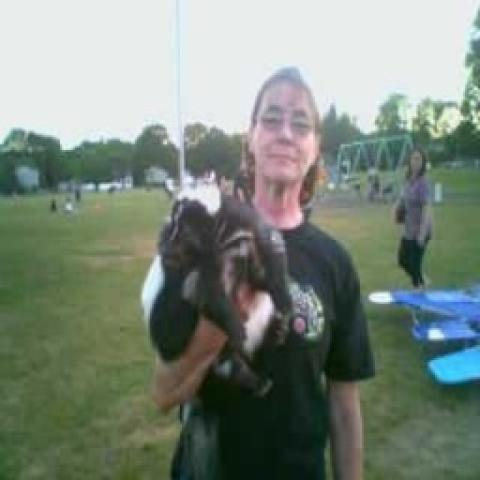small_animal: (152, 180, 296, 398)
